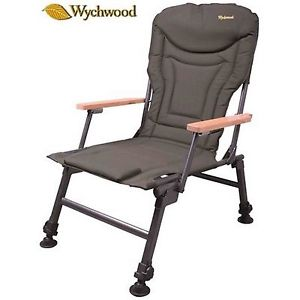chairs: (38, 4, 261, 300)
